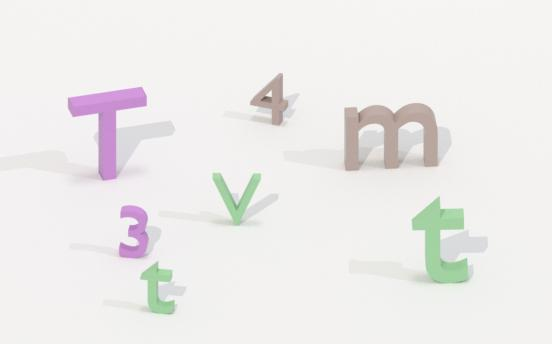chu_khoi: (68, 87, 146, 179), (344, 103, 438, 169), (412, 197, 468, 282), (212, 173, 260, 224), (141, 262, 174, 313)
so_khoi: (250, 73, 287, 124), (119, 205, 148, 257)
